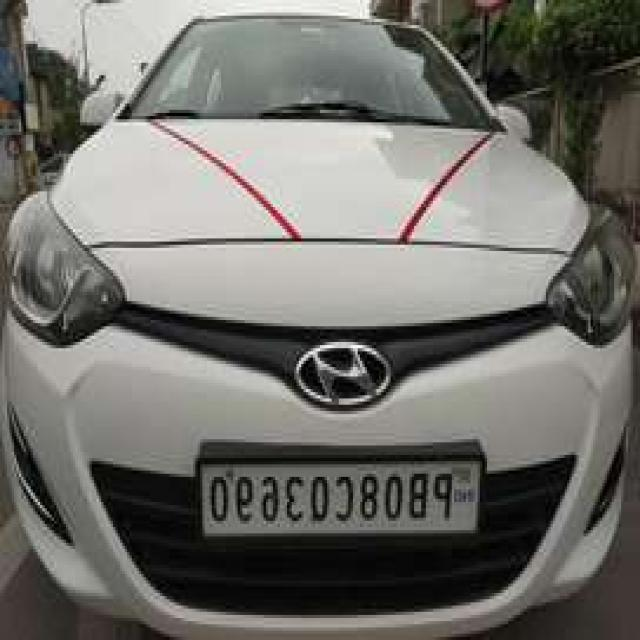license_plate: (194, 441, 488, 549)
